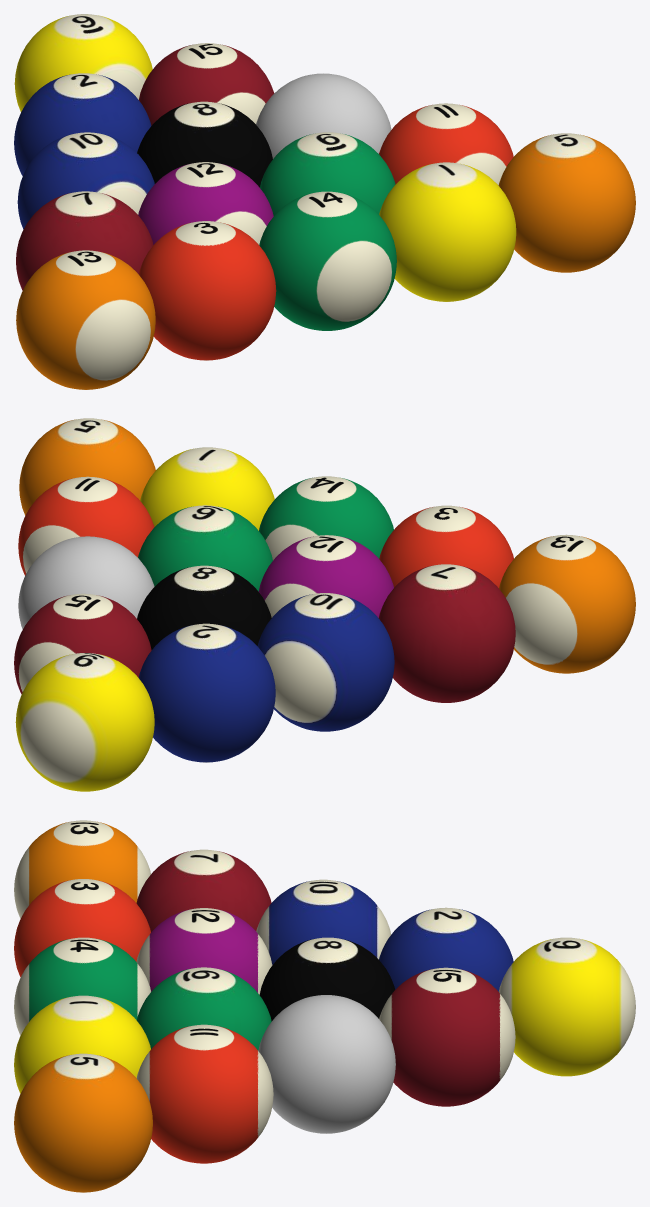
File: balls.obj
The picture shows the model from 3 angles, top to bottom: view 1: azimuth 30°, elevation 25°; view 2: azimuth 150°, elevation 25°; view 3: azimuth 270°, elevation 25°; orthographic projection.
Visible parts, largest first — view 1: 13, 14, 3, 1, 5, 2, 9, 7, 10, 8, 6, 12 (+3 smaller); view 2: 9, 2, 7, 13, 10, 15, 11, 5, 6, 4, 14, 3 (+3 smaller); view 3: 5, 4, 9, 11, 15, 3, 13, 14, 1, 12, 2, 7 (+3 smaller).
Part boxes in pixels (x1,y1,x2,y2): 13: (16, 250, 155, 389); 14: (259, 191, 396, 330); 3: (138, 221, 276, 360); 1: (379, 162, 516, 301); 5: (498, 133, 635, 272); 2: (14, 73, 151, 175); 9: (14, 14, 152, 111); 7: (16, 191, 153, 290); 10: (17, 132, 154, 229); 8: (137, 101, 272, 187); 6: (260, 132, 395, 215); 12: (138, 162, 273, 244); 9: (15, 653, 154, 791); 2: (138, 623, 275, 762); 7: (378, 564, 515, 702); 13: (499, 534, 635, 673); 10: (257, 593, 394, 731); 15: (14, 593, 151, 694); 11: (18, 476, 154, 575); 5: (19, 418, 155, 515); 6: (138, 505, 272, 591); 4: (18, 536, 154, 629); 14: (259, 476, 393, 560); 3: (379, 505, 513, 587); 5: (14, 1053, 152, 1192); 4: (258, 995, 395, 1133); 9: (499, 937, 635, 1076); 11: (136, 1024, 273, 1163); 15: (379, 967, 515, 1106); 3: (14, 879, 150, 977); 13: (14, 820, 150, 918); 14: (14, 937, 150, 1035); 1: (14, 995, 150, 1093); 12: (136, 908, 272, 994); 2: (379, 907, 513, 991); 7: (136, 849, 271, 932).
Bounding box in the file's own units: 2.48 × 0.5 × 2.24.
